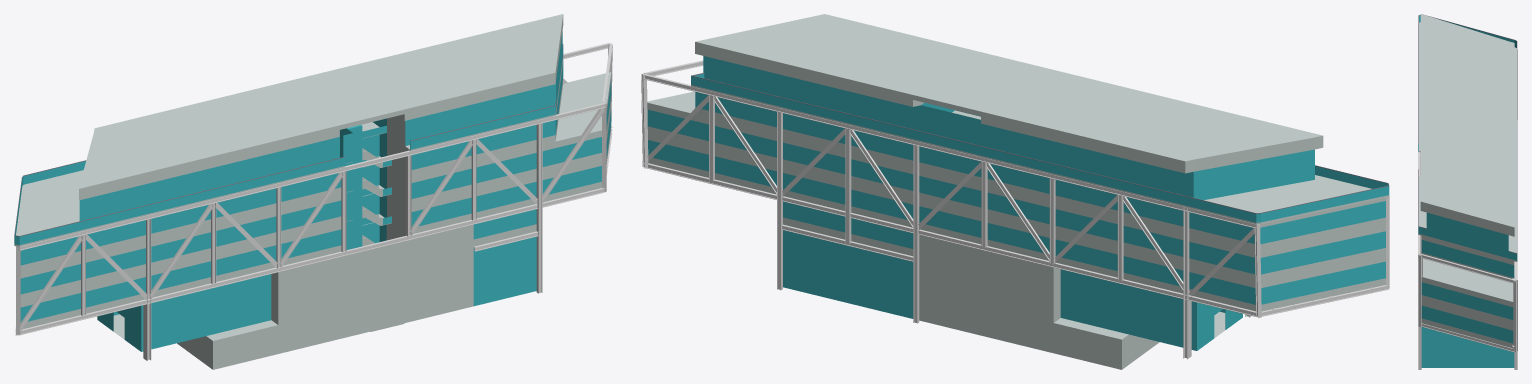
Rendered from CIA32.fbx.
3 views of the same model, side by side, from view 1: azimuth 30°, elevation 25°; view 2: azimuth 150°, elevation 25°; view 3: azimuth 270°, elevation 25° (orthographic). The views are drawn at different scales.
Parts seen in each view (by area): view 1: Cube.017, Cube.004, Cube.010, Cube.018, Cube.005, Cube.033, Cube.040, Cube.042, Cube.041, Cube.043, Cube.045, Cube.046 (+2 smaller); view 2: Cube.017, Cube.003, Cube.009, Cube.023, Cube.002, Cube.025, Cube.037, Cube.024, Cube.001, Cube.032, Cube.031, Cube.044 (+4 smaller); view 3: Cube.017, Cube.028, Cube.007, Cube.027, Cube.010, Cube.019, Cube.009, Cube.018.
Boxes of the visible parts, x1,y1,x2,y2 form: Cube.017: [14, 14, 611, 369]; Cube.004: [19, 188, 604, 335]; Cube.010: [19, 103, 605, 250]; Cube.018: [536, 123, 542, 293]; Cube.005: [143, 219, 151, 360]; Cube.033: [542, 108, 604, 202]; Cube.040: [18, 236, 84, 330]; Cube.042: [279, 172, 344, 266]; Cube.041: [148, 204, 213, 298]; Cube.043: [409, 140, 474, 235]; Cube.045: [83, 234, 148, 299]; Cube.046: [214, 202, 279, 268]; Cube.017: [647, 14, 1389, 369]; Cube.003: [643, 163, 1257, 316]; Cube.009: [643, 74, 1256, 228]; Cube.023: [913, 144, 919, 323]; Cube.002: [1183, 207, 1191, 359]; Cube.025: [777, 111, 782, 290]; Cube.037: [782, 224, 913, 261]; Cube.024: [845, 127, 851, 243]; Cube.001: [1261, 285, 1389, 316]; Cube.032: [850, 130, 913, 227]; Cube.031: [986, 163, 1049, 261]; Cube.044: [714, 96, 776, 194]; Cube.017: [1418, 14, 1517, 367]; Cube.028: [1420, 254, 1514, 283]; Cube.007: [1421, 323, 1514, 352]; Cube.027: [1513, 280, 1517, 352]; Cube.010: [1418, 24, 1420, 257]; Cube.019: [1418, 254, 1422, 326]; Cube.009: [1515, 49, 1517, 283]; Cube.018: [1418, 235, 1421, 369].
Bounding box in the file's own units: 10088 × 3178 × 1648.
